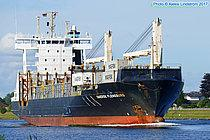Ship: (7, 10, 190, 131)
